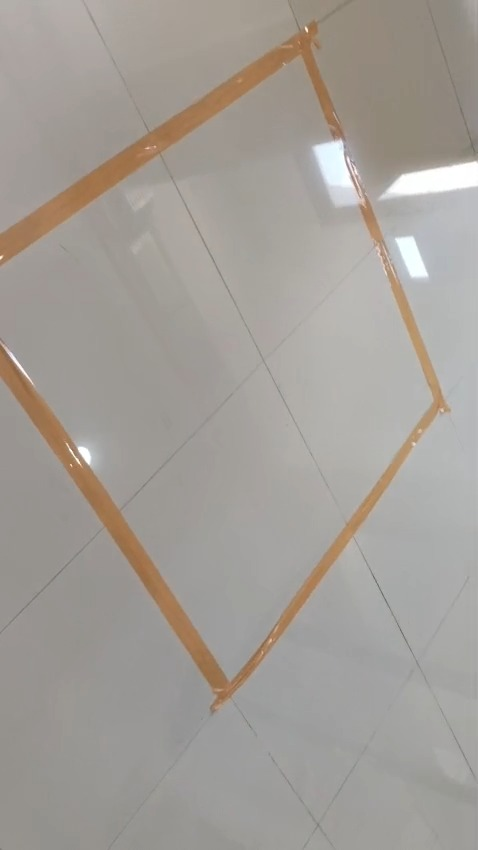floor marking: (0, 149, 448, 707), (1, 22, 344, 263)
